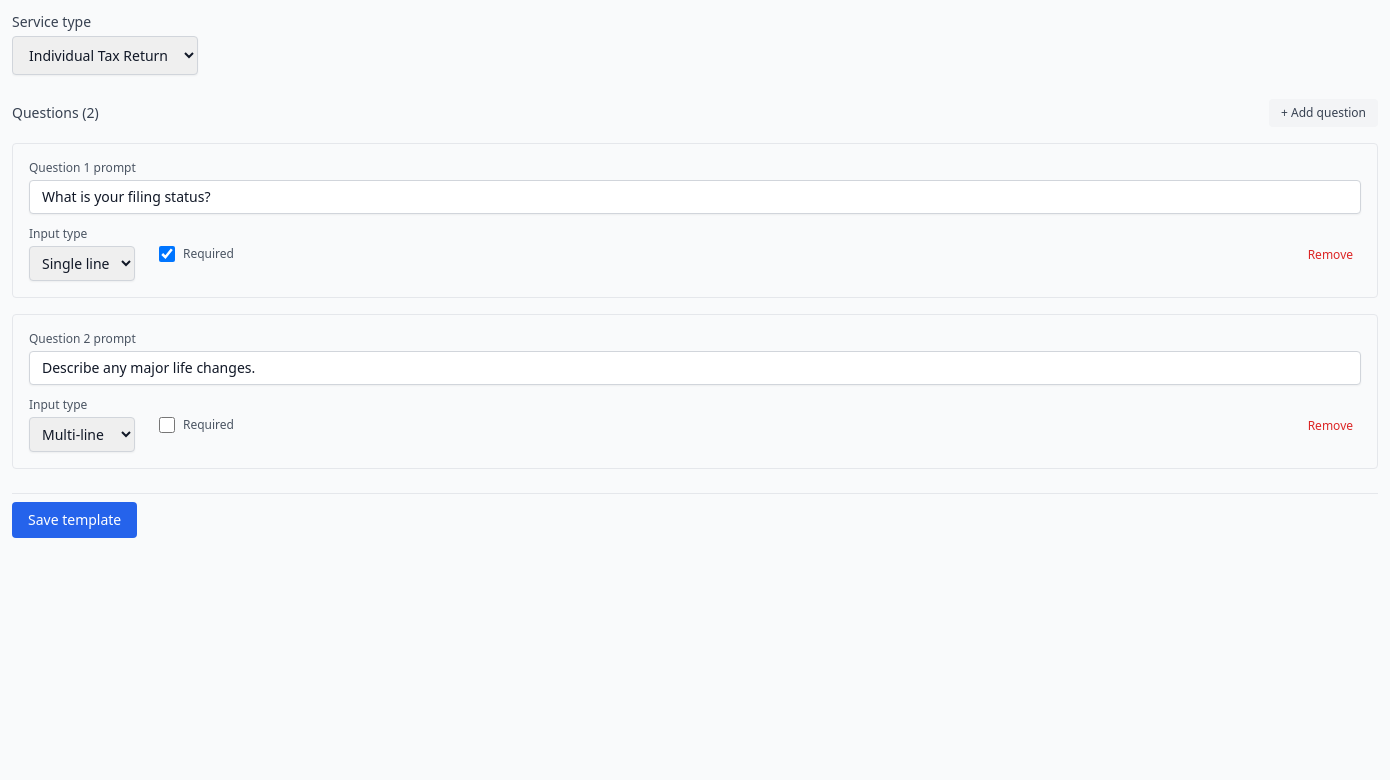
QuestionnaireTemplateEditor › shows success status banner after a successful save
Click the button with test id "save-template" at (75, 520), box [12, 502, 137, 538]
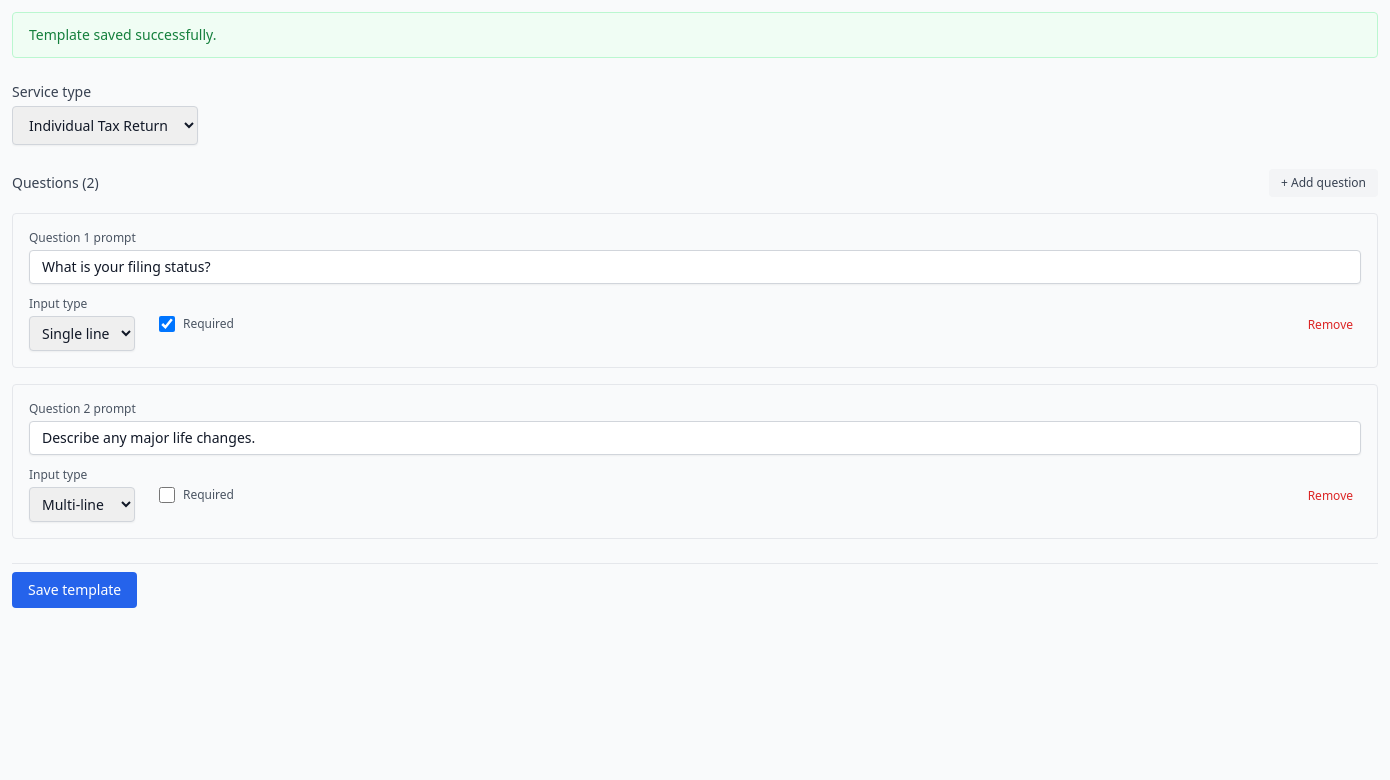
Result: the message shows "saved successfully" at [29, 25, 216, 44]
